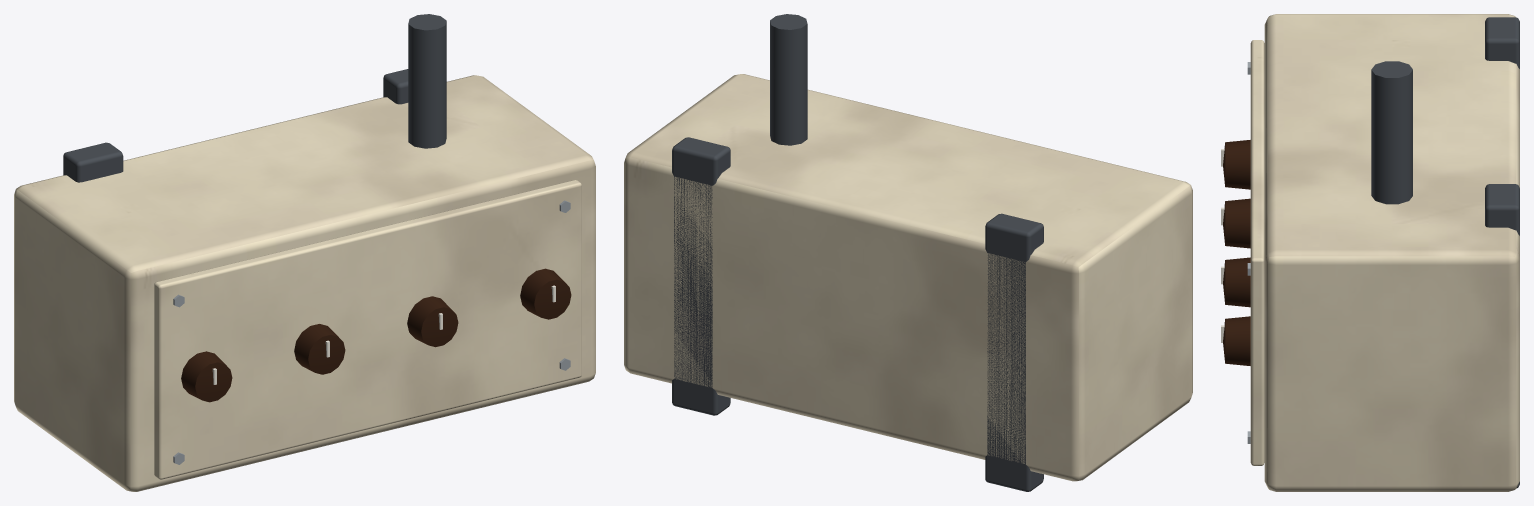
File: WallBox_50_2.glb
3 renders of one model, left to right at view 1: azimuth 30°, elevation 25°; view 2: azimuth 150°, elevation 25°; view 3: azimuth 270°, elevation 25°, orthographic. The views are drawn at different scales.
Parts seen in each view (by area): view 1: WallBox_50_2_Body; view 2: WallBox_50_2_Body; view 3: WallBox_50_2_Body.
Part boxes in pixels (box(x1,y1,x2,y2)): WallBox_50_2_Body: box(14, 14, 595, 491); WallBox_50_2_Body: box(624, 14, 1192, 491); WallBox_50_2_Body: box(1221, 14, 1519, 491).
Size of the model in its own units: 0.5 by 0.37 by 0.2575.
Materials: 5 (2 with a texture image).
